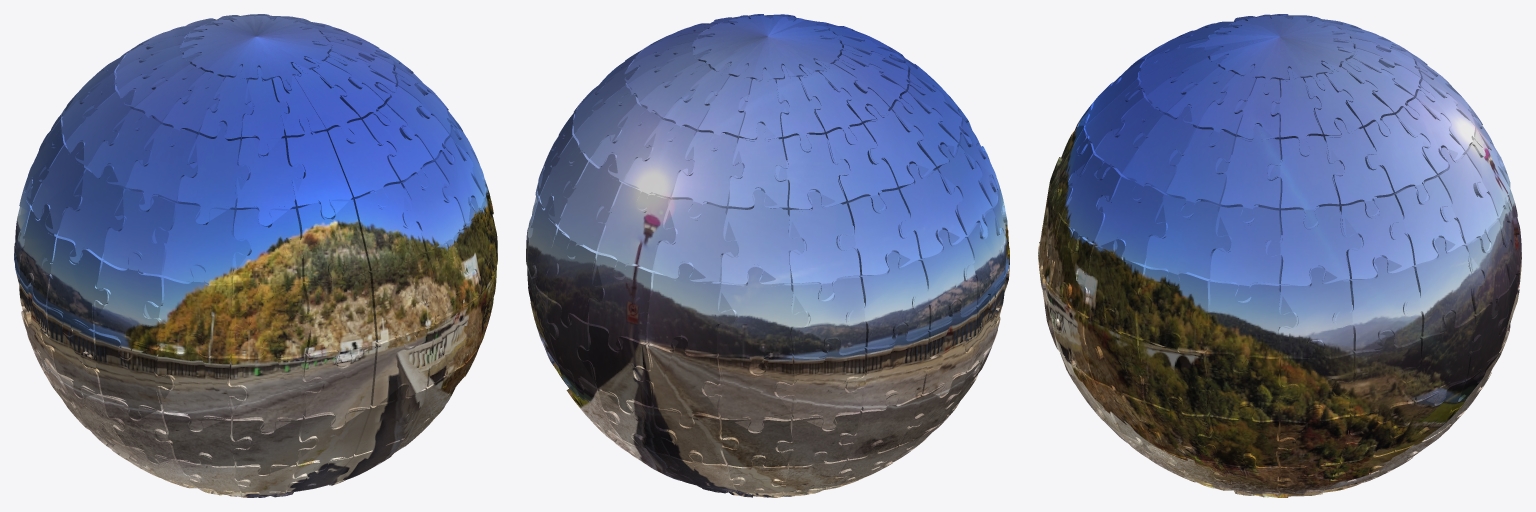
The model's file is hard-puzzle-v7.fbx.
3 views of the same model, side by side, from view 1: azimuth 30°, elevation 25°; view 2: azimuth 150°, elevation 25°; view 3: azimuth 270°, elevation 25° (orthographic).
Parts seen in each view (by area): view 1: Street_View_360_1.041, Street_View_360_1.117, Street_View_360_1.027, Street_View_360_1.134, Street_View_360_1.099, Street_View_360_1.135, Street_View_360_1.116, Street_View_360_1.118, Street_View_360_1.098, Street_View_360_1.026, Street_View_360_1.115, Street_View_360_1.081 (+57 smaller); view 2: Street_View_360_1.041, Street_View_360_1.104, Street_View_360_1.105, Street_View_360_1.086, Street_View_360_1.085, Street_View_360_1.121, Street_View_360_1.103, Street_View_360_1.122, Street_View_360_1.102, Street_View_360_1.123, Street_View_360_1.087, Street_View_360_1.120 (+57 smaller); view 3: Street_View_360_1.041, Street_View_360_1.111, Street_View_360_1.110, Street_View_360_1.109, Street_View_360_1.092, Street_View_360_1.112, Street_View_360_1.129, Street_View_360_1.093, Street_View_360_1.094, Street_View_360_1.127, Street_View_360_1.128, Street_View_360_1.108 (+59 smaller).
Boxes of the visible parts, x1=… form: Street_View_360_1.041: x1=179, y1=14, x2=345, y2=90; Street_View_360_1.117: x1=144, y1=264, x2=249, y2=356; Street_View_360_1.027: x1=291, y1=263, x2=375, y2=366; Street_View_360_1.134: x1=229, y1=340, x2=321, y2=432; Street_View_360_1.099: x1=152, y1=203, x2=251, y2=283; Street_View_360_1.135: x1=156, y1=336, x2=247, y2=430; Street_View_360_1.116: x1=230, y1=282, x2=308, y2=357; Street_View_360_1.118: x1=93, y1=252, x2=164, y2=358; Street_View_360_1.098: x1=232, y1=208, x2=302, y2=298; Street_View_360_1.026: x1=285, y1=199, x2=369, y2=282; Street_View_360_1.115: x1=368, y1=248, x2=436, y2=348; Street_View_360_1.081: x1=103, y1=189, x2=177, y2=275; Street_View_360_1.041: x1=675, y1=15, x2=860, y2=81; Street_View_360_1.104: x1=716, y1=265, x2=808, y2=373; Street_View_360_1.105: x1=634, y1=262, x2=737, y2=354; Street_View_360_1.086: x1=721, y1=189, x2=804, y2=284; Street_View_360_1.085: x1=788, y1=191, x2=860, y2=301; Street_View_360_1.121: x1=775, y1=336, x2=865, y2=429; Street_View_360_1.103: x1=790, y1=276, x2=866, y2=356; Street_View_360_1.122: x1=704, y1=354, x2=794, y2=431; Street_View_360_1.102: x1=848, y1=251, x2=929, y2=347; Street_View_360_1.123: x1=635, y1=336, x2=720, y2=426; Street_View_360_1.087: x1=654, y1=199, x2=738, y2=281; Street_View_360_1.120: x1=845, y1=322, x2=941, y2=410; Street_View_360_1.041: x1=1188, y1=14, x2=1359, y2=91; Street_View_360_1.111: x1=1190, y1=279, x2=1297, y2=371; Street_View_360_1.110: x1=1278, y1=265, x2=1353, y2=356; Street_View_360_1.109: x1=1335, y1=256, x2=1422, y2=351; Street_View_360_1.092: x1=1265, y1=206, x2=1361, y2=286; Street_View_360_1.112: x1=1137, y1=266, x2=1210, y2=351; Street_View_360_1.129: x1=1192, y1=352, x2=1298, y2=420; Street_View_360_1.093: x1=1210, y1=206, x2=1281, y2=302; Street_View_360_1.094: x1=1146, y1=195, x2=1232, y2=289; Street_View_360_1.127: x1=1333, y1=330, x2=1420, y2=421; Street_View_360_1.128: x1=1278, y1=339, x2=1354, y2=421; Street_View_360_1.108: x1=1406, y1=237, x2=1483, y2=336.
Size of the model in its own units: 241 by 241 by 241.
